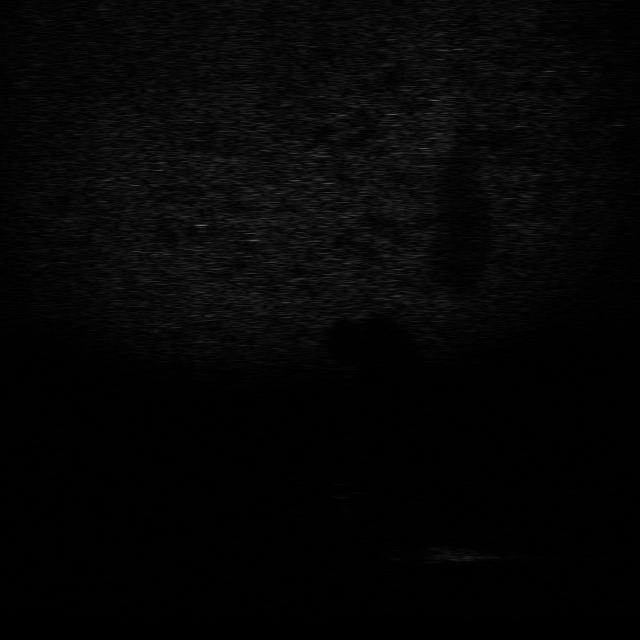ball: (318, 479, 362, 501)
metal bucket: (412, 540, 492, 568)
tyre: (364, 520, 414, 565)
